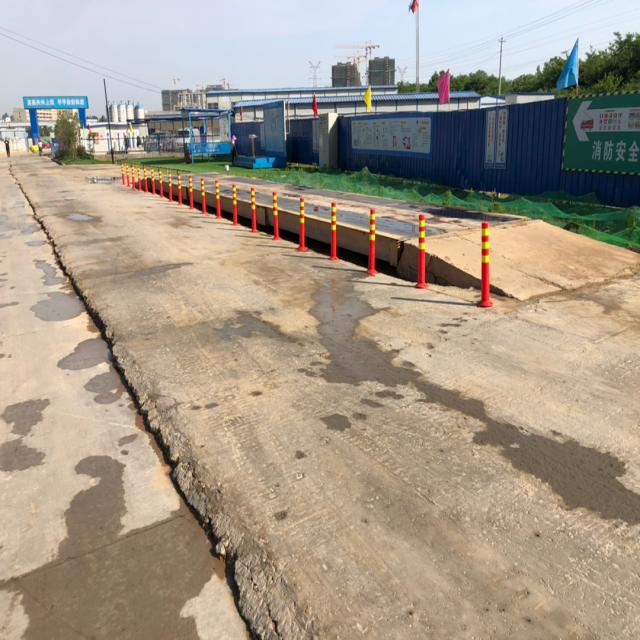warning_column: (475, 220, 494, 306), (415, 212, 428, 288), (366, 208, 378, 272), (328, 199, 338, 259), (297, 195, 307, 250), (271, 190, 280, 240), (214, 179, 224, 219), (231, 182, 240, 226), (250, 186, 258, 232), (200, 176, 207, 214), (157, 166, 165, 196), (188, 174, 194, 208), (177, 172, 183, 204), (150, 166, 156, 194), (143, 165, 149, 192), (168, 170, 173, 202)
